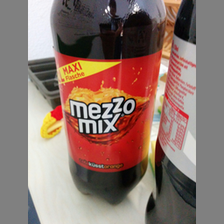soda: (49, 1, 169, 204), (143, 1, 197, 224)
